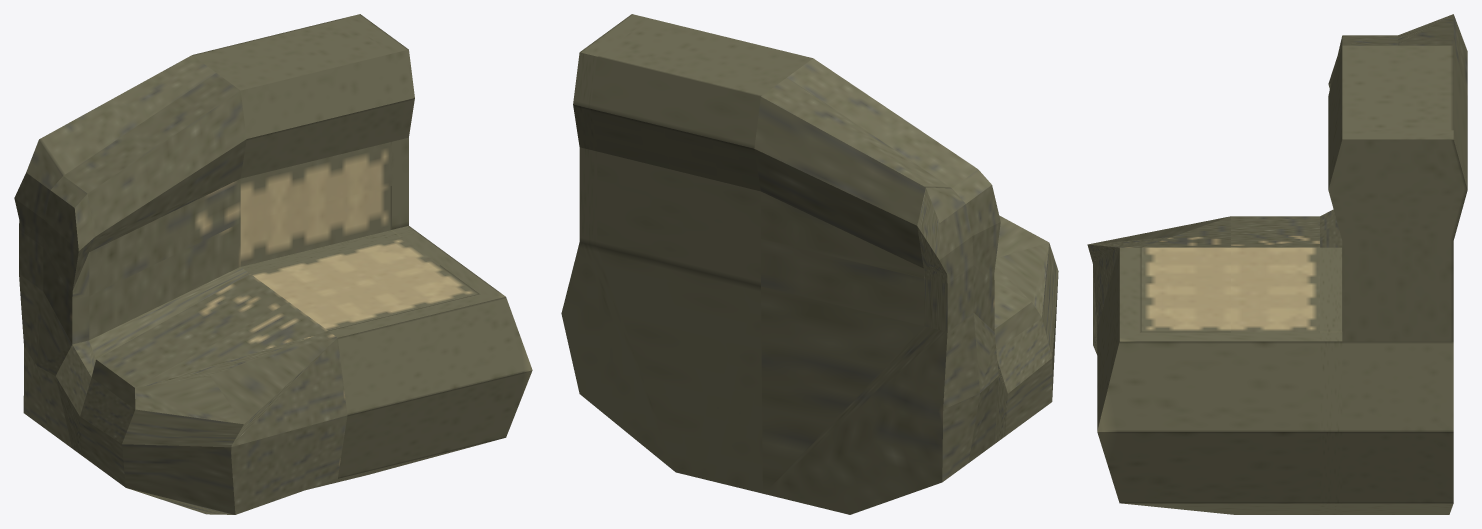
The model's file is Platform_13_Broken_1.fbx.
The picture shows the model from 3 angles, left to right: view 1: azimuth 30°, elevation 25°; view 2: azimuth 150°, elevation 25°; view 3: azimuth 270°, elevation 25°; orthographic projection. The views are drawn at different scales.
Parts seen in each view (by area): view 1: Platform_13_Broken_1; view 2: Platform_13_Broken_1; view 3: Platform_13_Broken_1.
Part boxes in pixels (bbox=[...]): Platform_13_Broken_1: bbox=[14, 14, 532, 514]; Platform_13_Broken_1: bbox=[561, 14, 1058, 514]; Platform_13_Broken_1: bbox=[1087, 14, 1467, 514].
Bounding box in the file's own units: 217 × 210 × 171.
